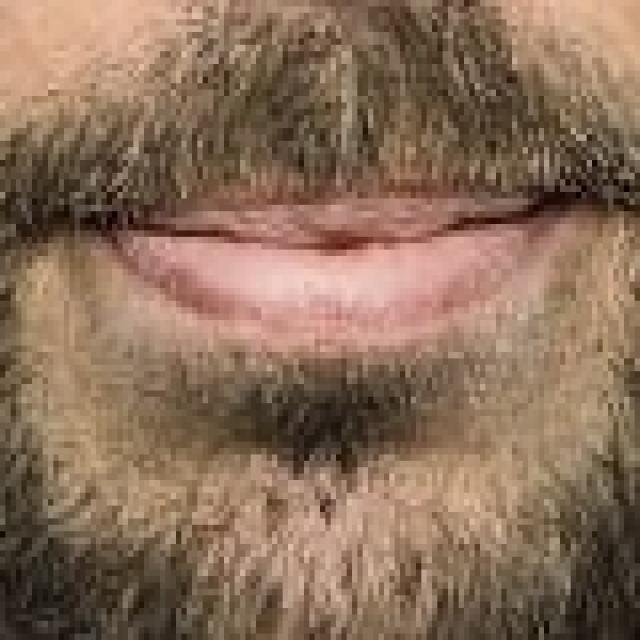closed-mouth: (85, 180, 608, 358)
